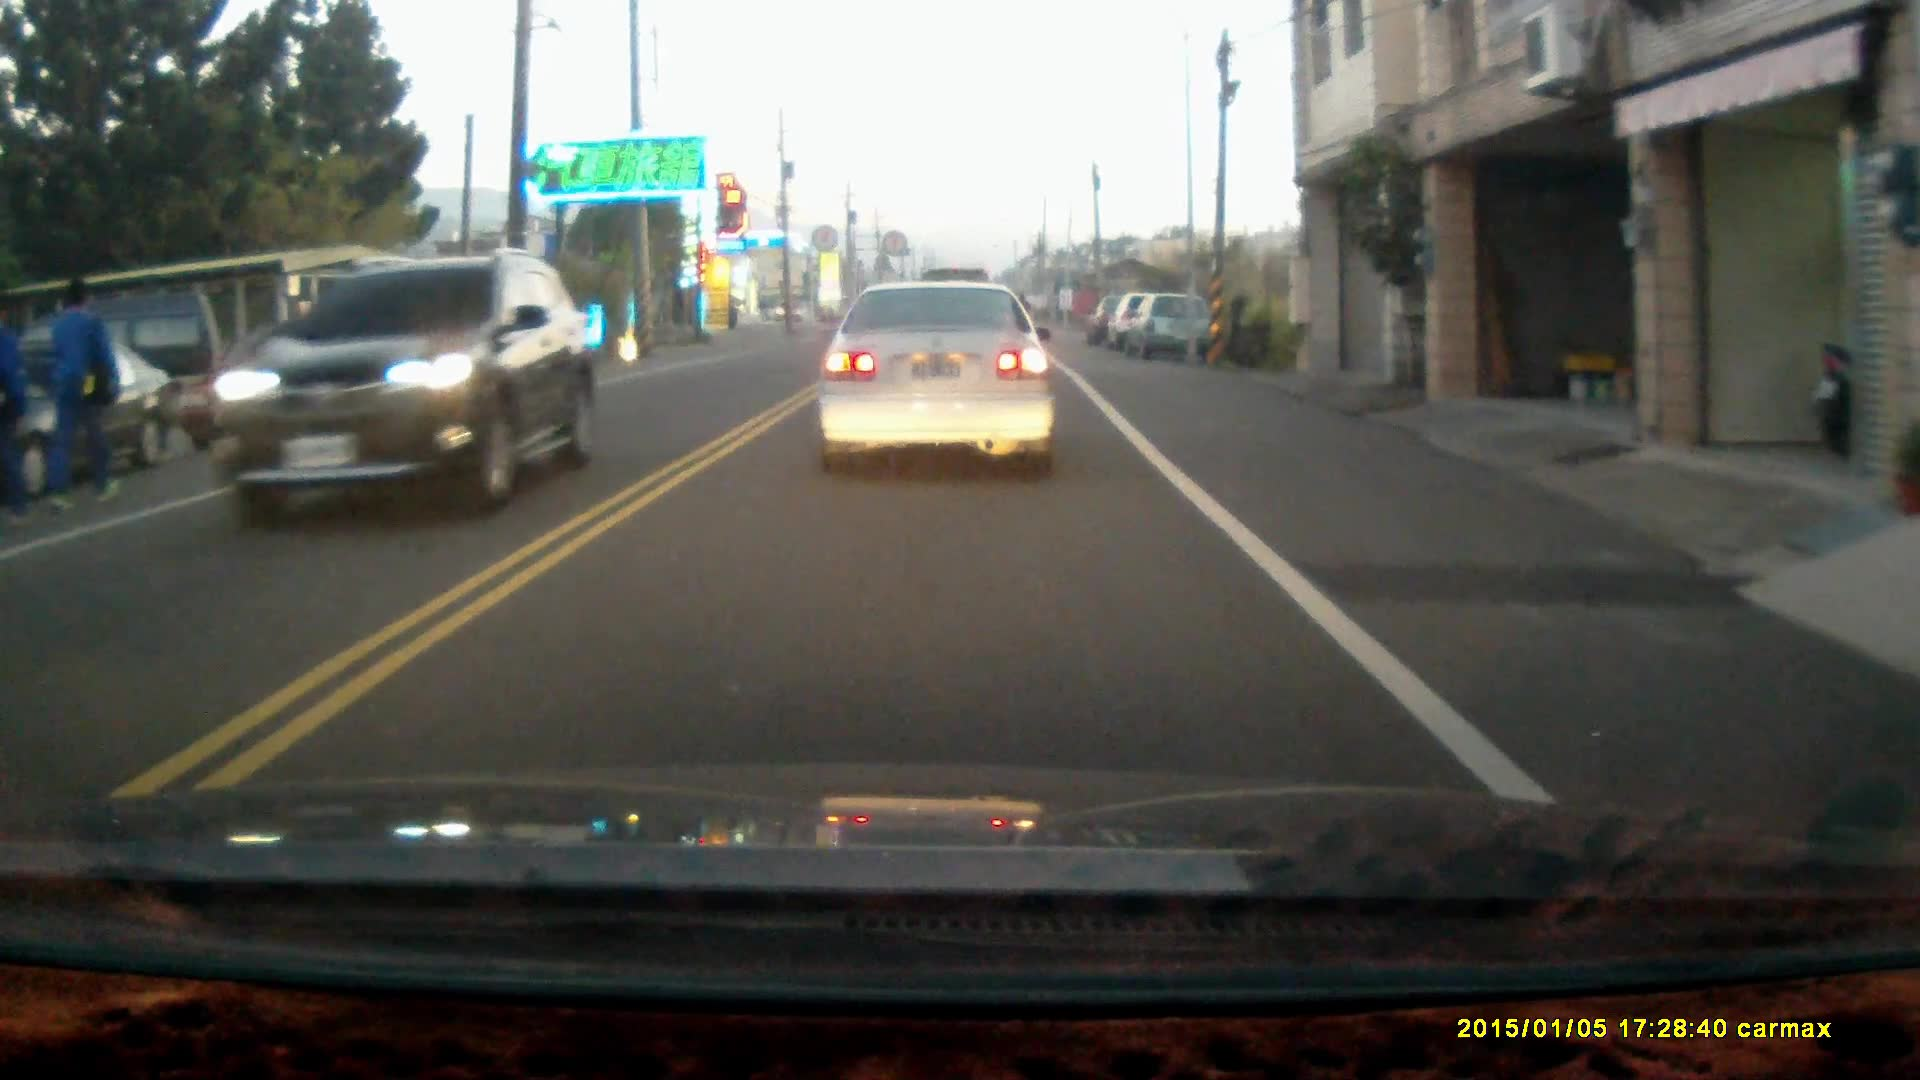pedestrian: (43, 275, 121, 512), (0, 295, 36, 528)
vehicle: (200, 253, 592, 515), (814, 279, 1061, 476), (1, 327, 181, 504), (1123, 294, 1214, 363)
